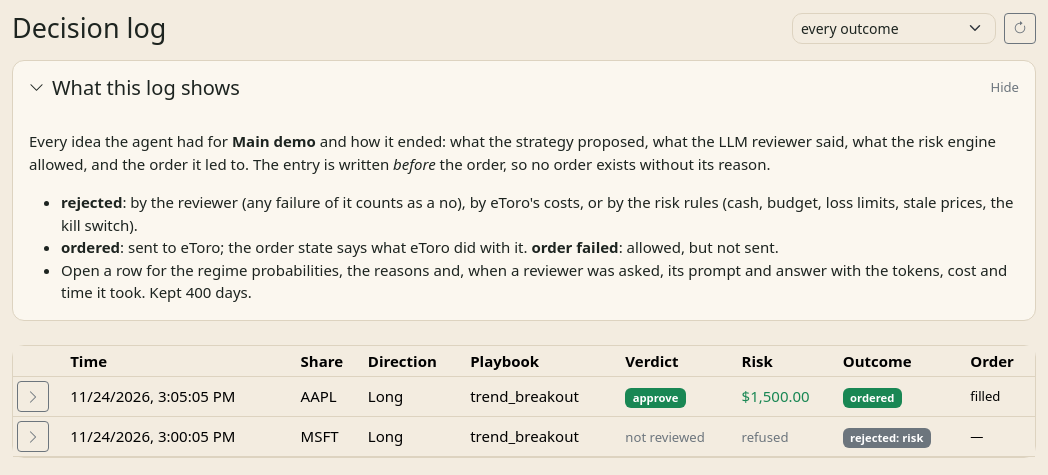
it: DecisionLog › filters by outcome
The width and height of the screenshot is (1048, 475).
Expected: the text "AAPL" is shown, x1=297 y1=377 x2=364 y2=417
Select "rejected: risk" in the dropdown named "Outcome" at (894, 28), box x1=792 y1=13 x2=996 y2=44
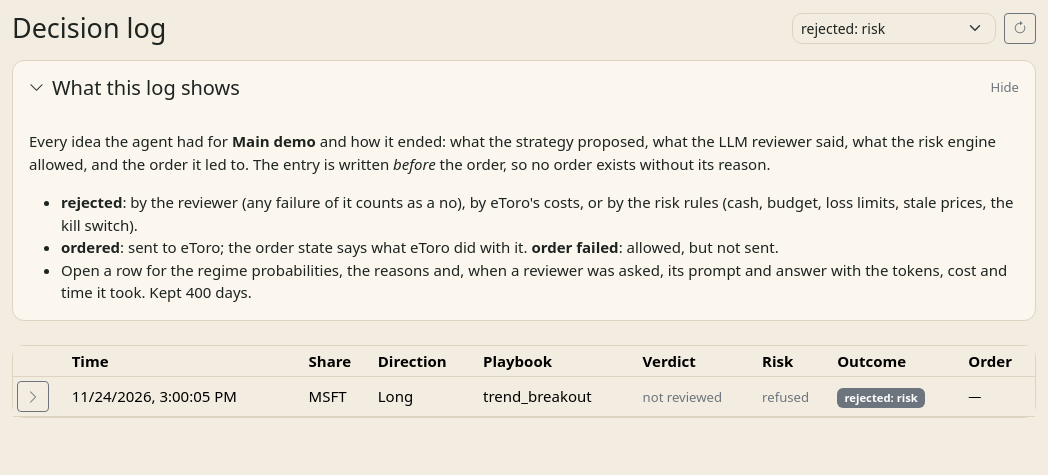
Expected: the text "MSFT" is shown, x1=305 y1=377 x2=374 y2=417
Expected: the text "AAPL" is gone
